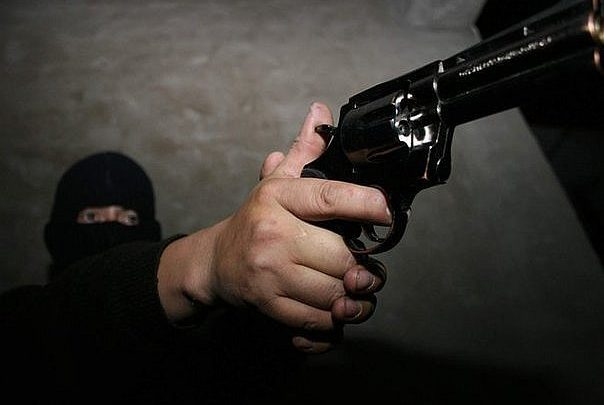Arma Real: (300, 5, 596, 254)
